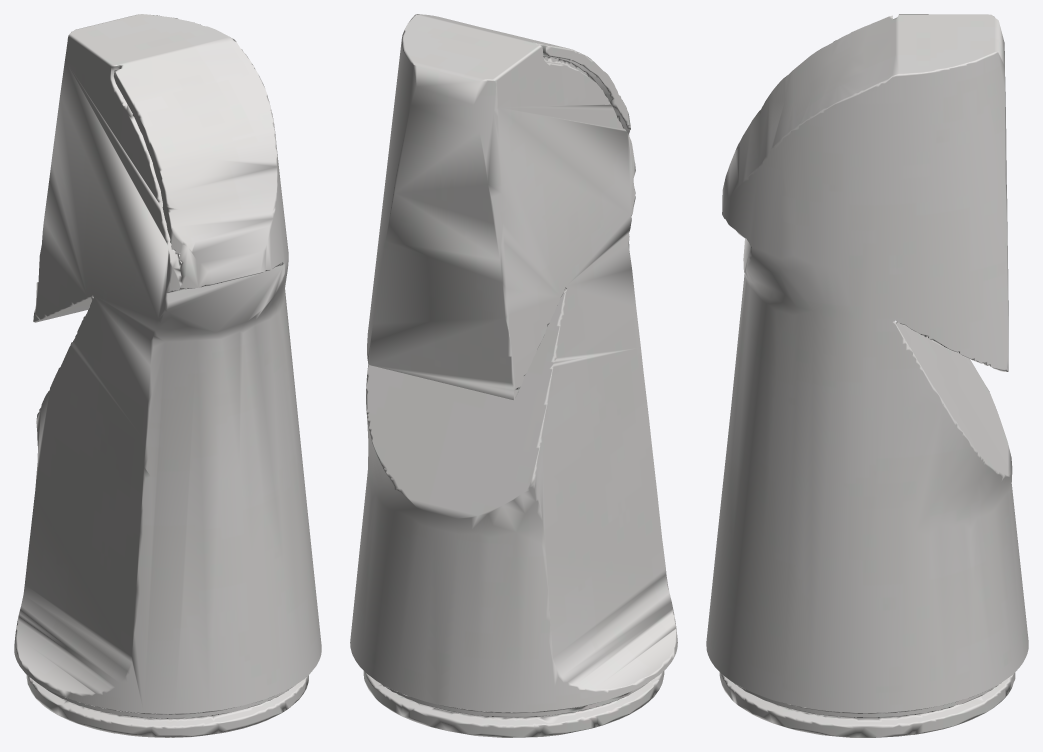
Rendered from knight-white.glb.
3 views of the same model, side by side, from view 1: azimuth 30°, elevation 25°; view 2: azimuth 150°, elevation 25°; view 3: azimuth 270°, elevation 25° (orthographic). The views are drawn at different scales.
Parts seen in each view (by area): view 1: 04_jezdec_bila; view 2: 04_jezdec_bila; view 3: 04_jezdec_bila.
Part boxes in pixels (<box>): 04_jezdec_bila: <box>14,14,321,737</box>; 04_jezdec_bila: <box>350,14,677,737</box>; 04_jezdec_bila: <box>706,14,1028,737</box>.
Bounding box in the file's own units: 0.6414 × 1.41 × 0.6412.
1 material, 1 textured.
